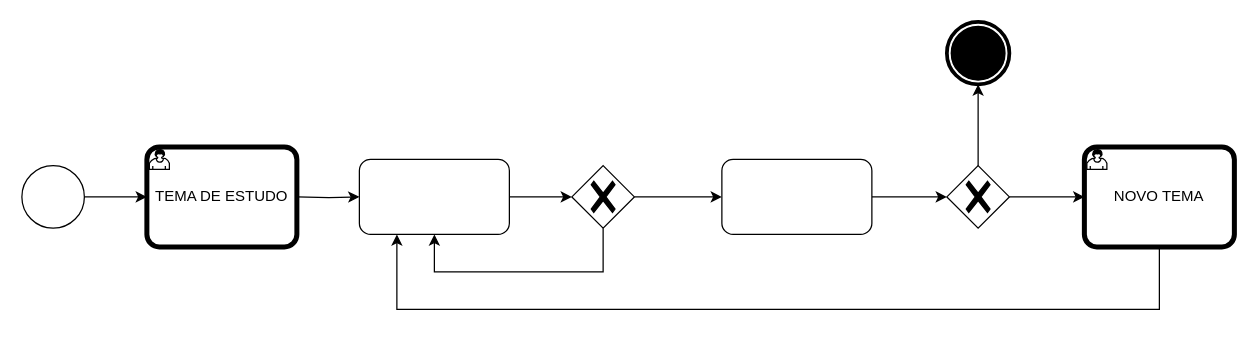
Some shapes in this 1256 by 341 pixel diagram are drawn without their labels. Each missing label, with the centre of its shape:
"CONTEÚDO" belongs at (433,196).
"PIN DE CONCLUSÃO" belongs at (796,196).
